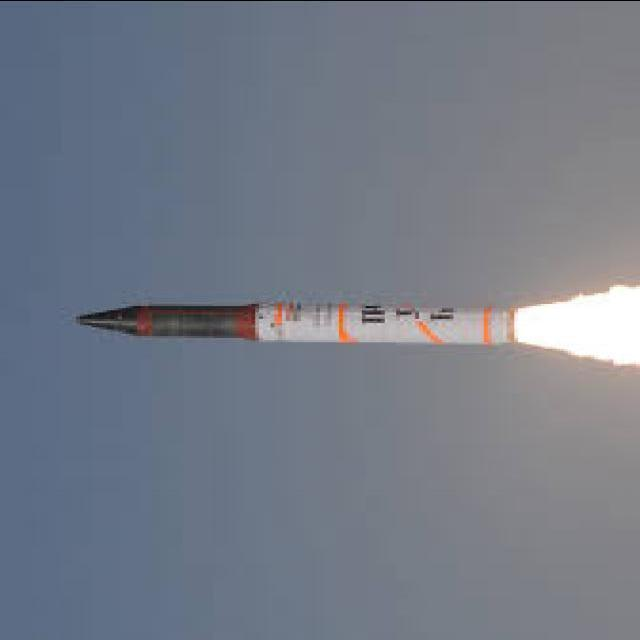missile: (78, 295, 524, 352)
